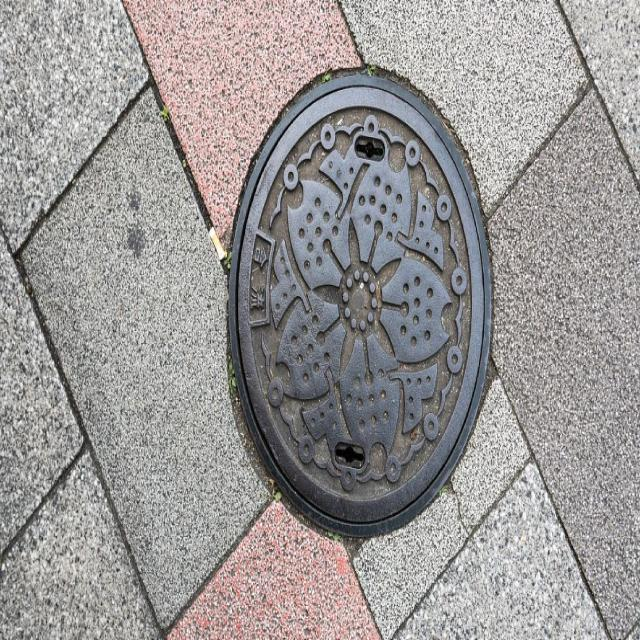manhole: (230, 71, 491, 536)
